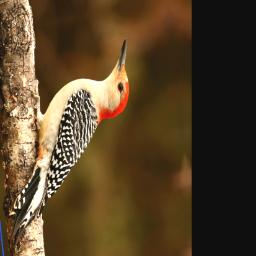Woodpecker: (0, 39, 147, 254)
